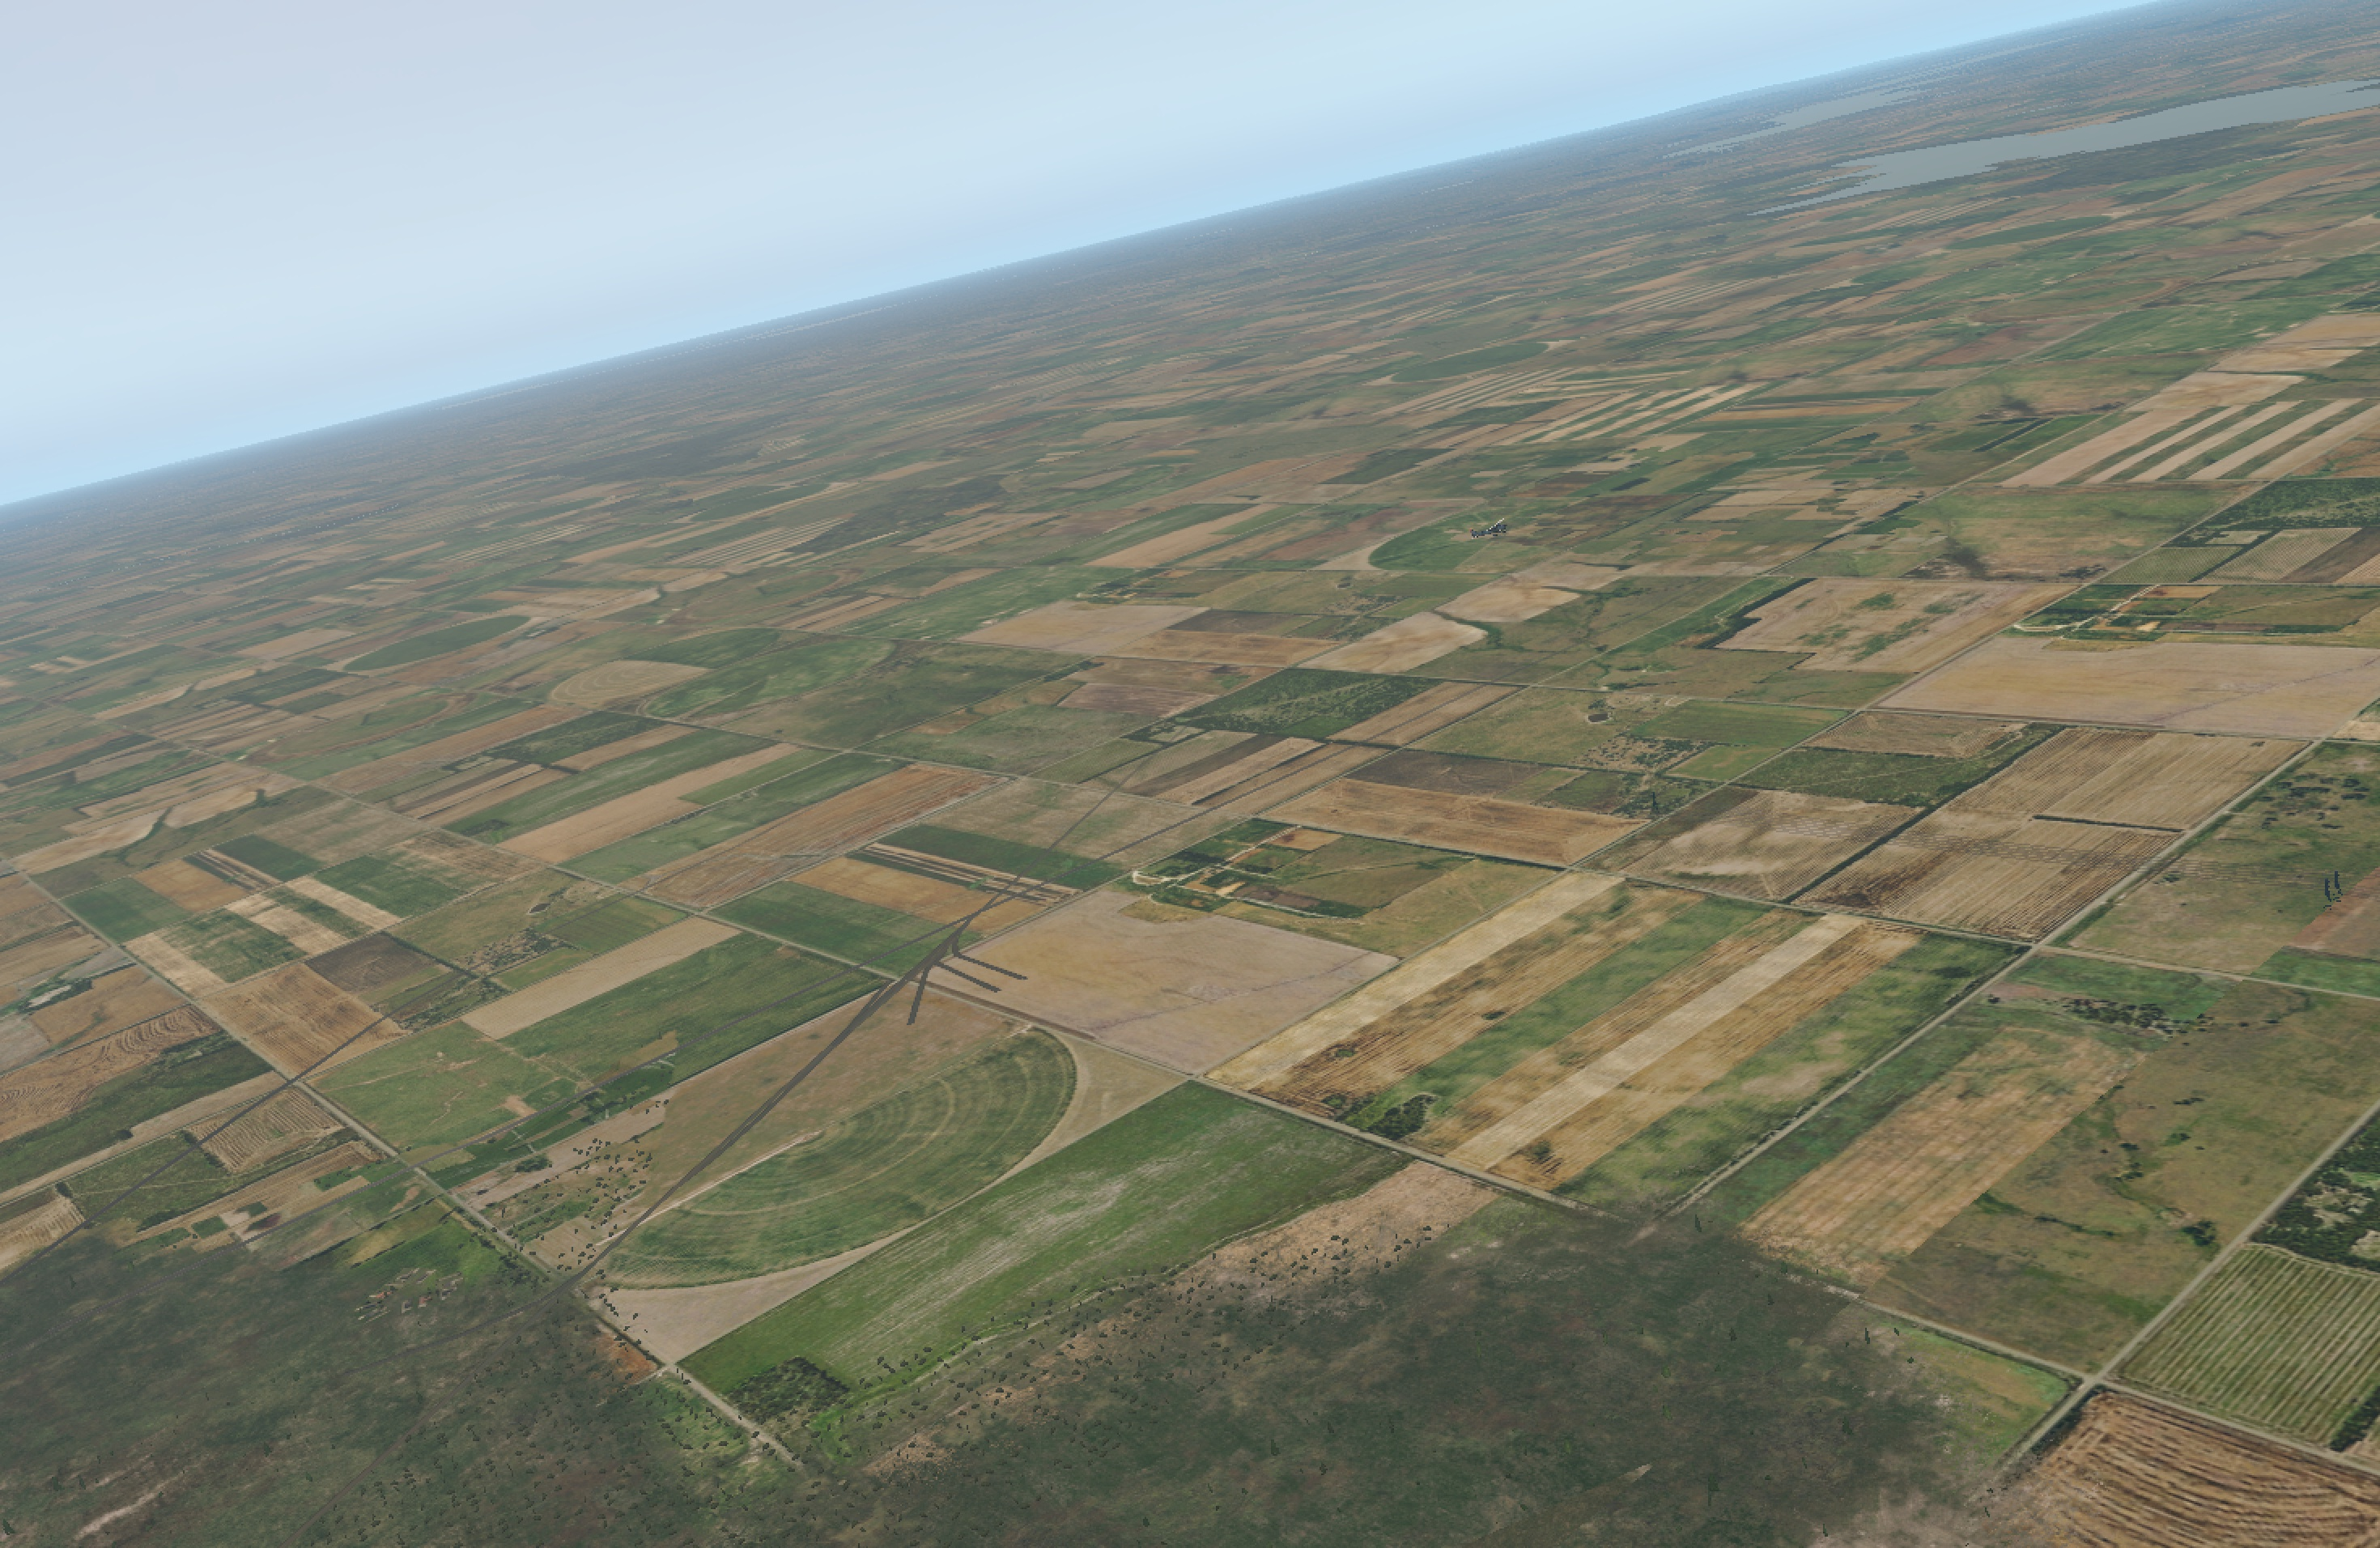aircraft: (1478, 521, 1516, 535)
